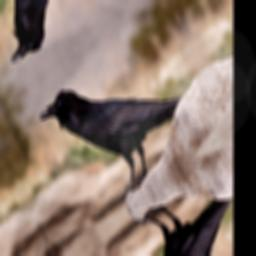Crow: (33, 19, 202, 224)
